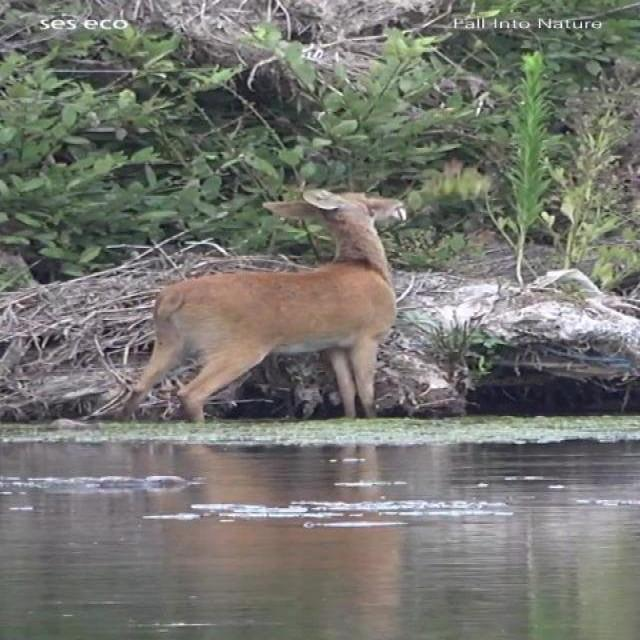deer: (120, 187, 413, 414)
